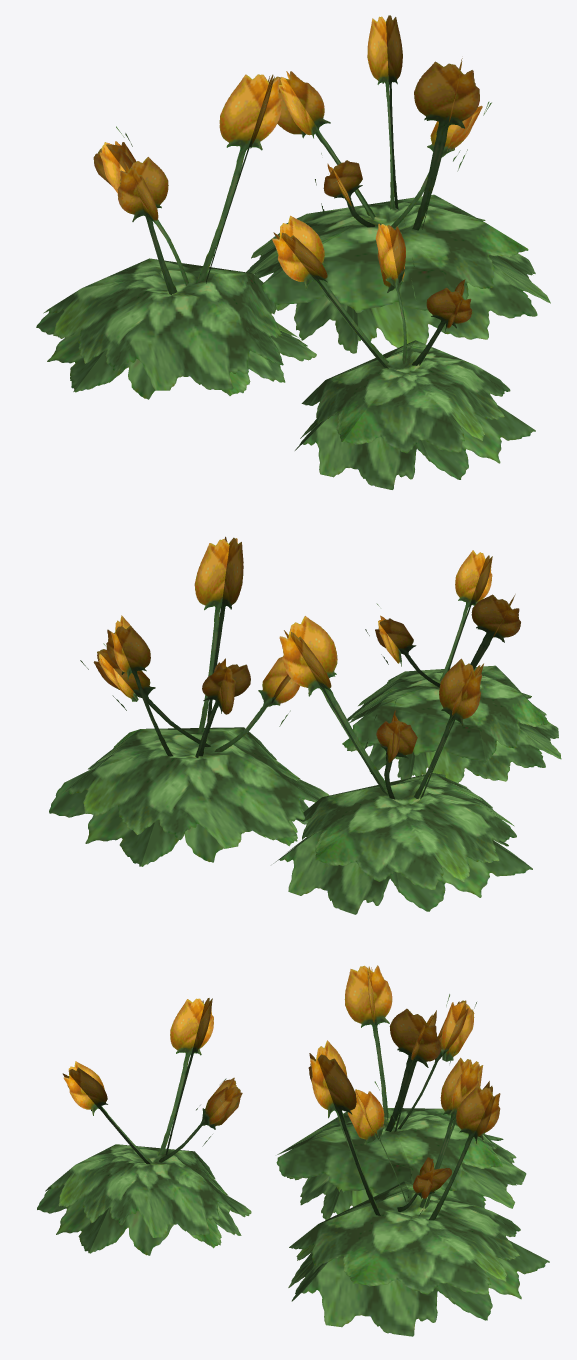
The model's file is Plant_zhiwu_tongyong_12.FBX.
3 views of the same model, one above another, from view 1: azimuth 30°, elevation 25°; view 2: azimuth 150°, elevation 25°; view 3: azimuth 270°, elevation 25° (orthographic). The views are drawn at different scales.
Parts seen in each view (by area): view 1: Plant_zhiwu_tongyong_12; view 2: Plant_zhiwu_tongyong_12; view 3: Plant_zhiwu_tongyong_12.
Part boxes in pixels (x1=…): Plant_zhiwu_tongyong_12: x1=36, y1=15, x2=550, y2=489; Plant_zhiwu_tongyong_12: x1=49, y1=536, x2=561, y2=914; Plant_zhiwu_tongyong_12: x1=37, y1=965, x2=549, y2=1336.
Bounding box in the file's own units: 169 × 85.45 × 178.
